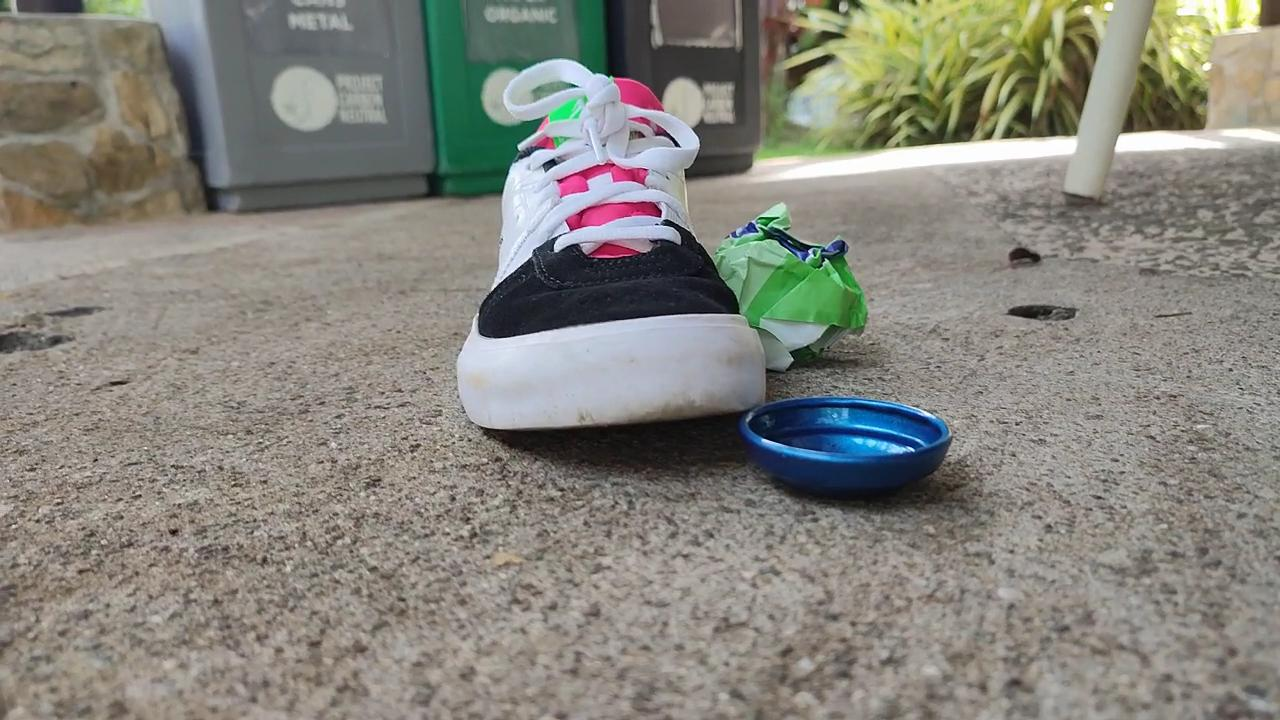Paper: (701, 182, 876, 376)
